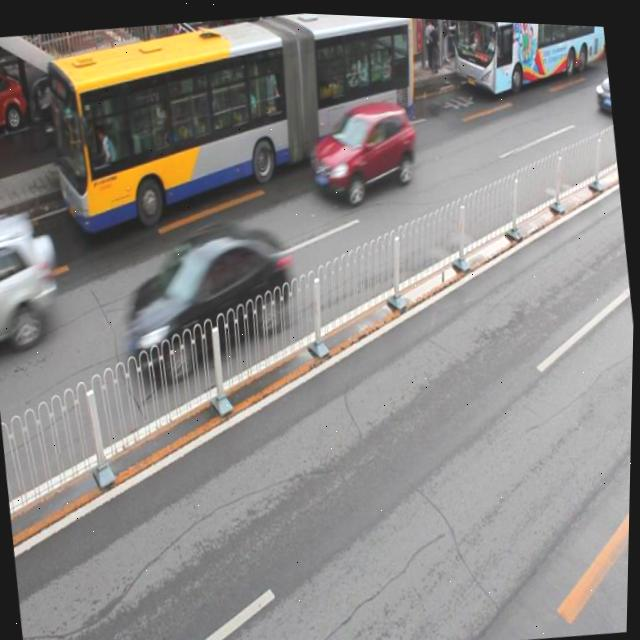car: (117, 214, 297, 384), (306, 91, 422, 208), (0, 204, 66, 361), (31, 43, 133, 130), (139, 15, 226, 95), (247, 9, 322, 75), (0, 61, 33, 147), (590, 54, 614, 118)
van: (38, 1, 432, 244), (453, 16, 610, 94)
